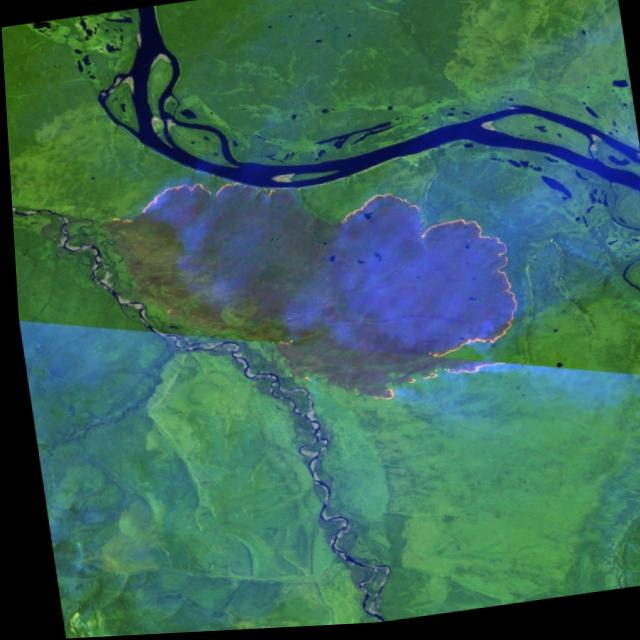fire: (331, 175, 536, 416), (98, 166, 284, 233)
